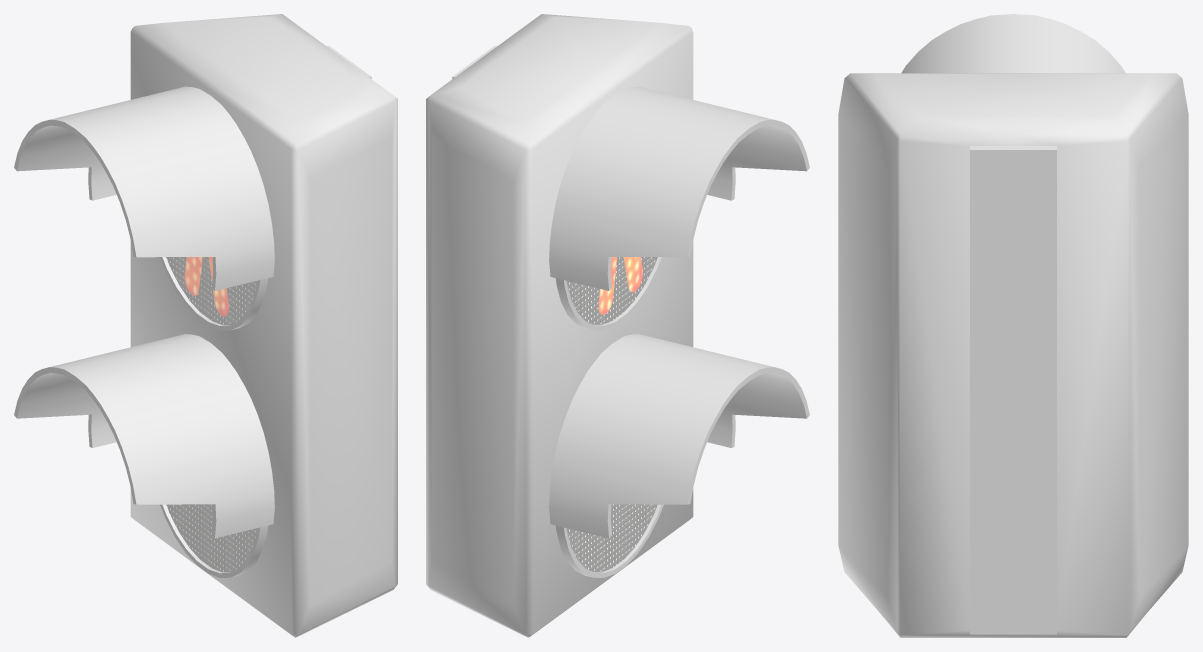
File: 竖排人行灯_RedLight.glb
The picture shows the model from 3 angles, left to right: view 1: azimuth 30°, elevation 25°; view 2: azimuth 150°, elevation 25°; view 3: azimuth 270°, elevation 25°; orthographic projection.
Parts seen in each view (by area): view 1: 竖排人行灯_RedLight; view 2: 竖排人行灯_RedLight; view 3: 竖排人行灯_RedLight.
Boxes of the visible parts, bbox=[...] form: 竖排人行灯_RedLight: bbox=[14, 14, 397, 637]; 竖排人行灯_RedLight: bbox=[426, 14, 809, 637]; 竖排人行灯_RedLight: bbox=[838, 14, 1188, 637].
Bounding box in the file's own units: 0.6001 × 1.06 × 0.65.
3 materials, 2 textured.
